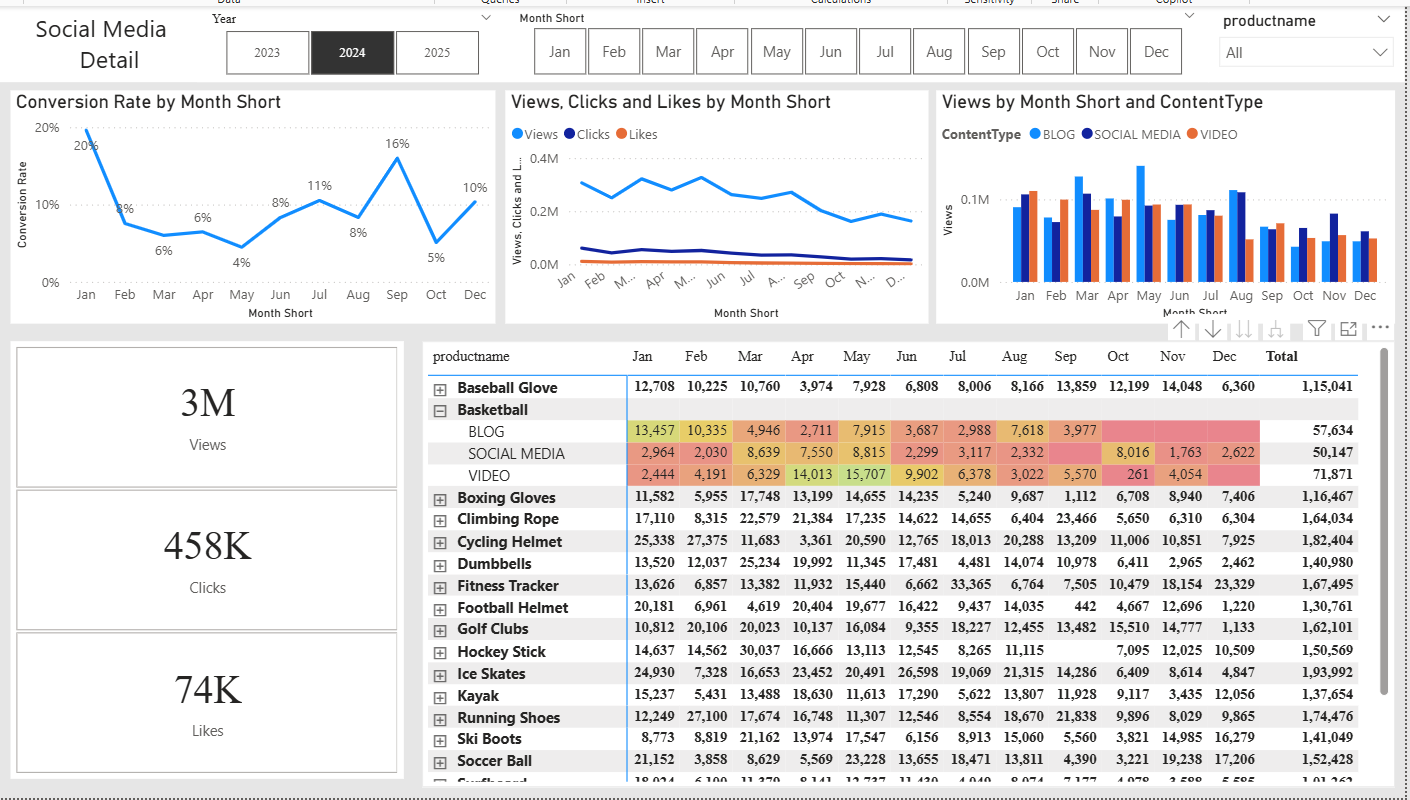

The page's visual inventory and layout, read from the dashboard file:
{"tool":"powerbi","page":{"name":"Social Media Detail","canvas":[1280,720],"ordinal":2},"visuals":[{"type":"textbox","box":[0,0,1280.1,69.5],"z":0},{"type":"slicer","fields":{"Values":["Date_Dim.Year"]},"box":[181.5,0,280.1,69.5],"z":1000},{"type":"slicer","fields":{"Values":["dim_products.productname"]},"box":[1101.6,0,178.4,69.5],"z":2000},{"type":"slicer","fields":{"Values":["Date_Dim.Month Short"]},"box":[461.6,0,640,69.5],"z":3000},{"type":"lineChart","fields":{"Category":["Date_Dim.Month Short"],"Y":["_Measures.Conversion Rate"]},"box":[11.6,76.7,441.6,212.4],"z":4000},{"type":"lineChart","fields":{"Y":["_Measures.Views","_Measures.Clicks","_Measures.Likes"],"Category":["Date_Dim.Month Short"]},"box":[461.5,76.7,384.8,212.4],"z":5000},{"type":"clusteredColumnChart","fields":{"Category":["Date_Dim.Month Short"],"Series":["fact_engagement_data.ContentType"],"Y":["_Measures.Views"]},"box":[853.7,76.7,417.4,212.4],"z":6000},{"type":"pivotTable","fields":{"Rows":["dim_products.productname","fact_engagement_data.ContentType"],"Columns":["Date_Dim.Month Short"],"Values":["_Measures.Views"]},"box":[385.8,304.9,885.2,405.8],"z":7000},{"type":"cardVisual","fields":{"Data":["_Measures.Views","_Measures.Clicks","_Measures.Likes"]},"box":[11.6,304.9,357.5,398.5],"z":8000}]}

Visuals, with their boxes on the page's 1280x720 design canvas (x1, y1, x2, y2). These are canvas units, not pixel positions in the 1410x800 screenshot, which may show the page scaled, cropped or inside an application window:
textbox: select_region(0, 0, 1280, 70)
slicer - Date_Dim.Year: select_region(182, 0, 462, 70)
slicer - dim_products.productname: select_region(1102, 0, 1280, 70)
slicer - Date_Dim.Month Short: select_region(462, 0, 1102, 70)
lineChart - Date_Dim.Month Short x _Measures.Conversion Rate: select_region(12, 77, 453, 289)
lineChart - _Measures.Views x _Measures.Clicks: select_region(462, 77, 846, 289)
clusteredColumnChart - Date_Dim.Month Short x fact_engagement_data.ContentType: select_region(854, 77, 1271, 289)
pivotTable - dim_products.productname x fact_engagement_data.ContentType: select_region(386, 305, 1271, 711)
cardVisual - _Measures.Views x _Measures.Clicks: select_region(12, 305, 369, 703)
